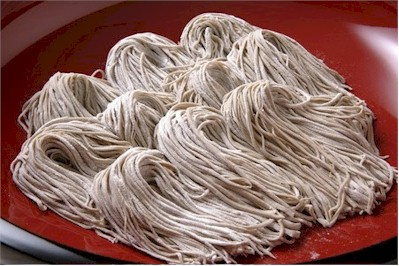Soba: (108, 20, 329, 125), (85, 146, 276, 265), (151, 101, 305, 237), (218, 89, 378, 210), (30, 68, 134, 229)
